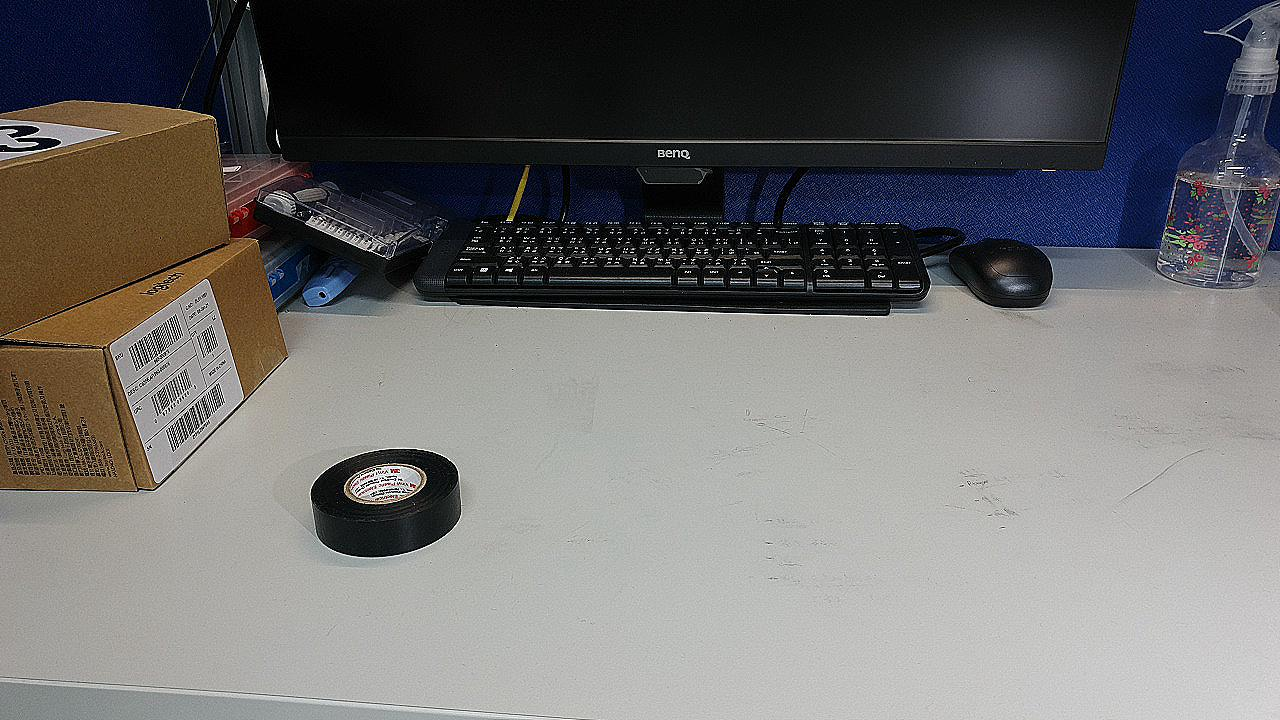long: (905, 453, 1033, 589)
